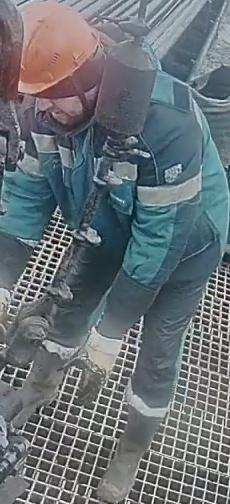gloves: (54, 325, 131, 406)
helmet: (17, 0, 103, 104)
vest: (1, 72, 229, 288)
